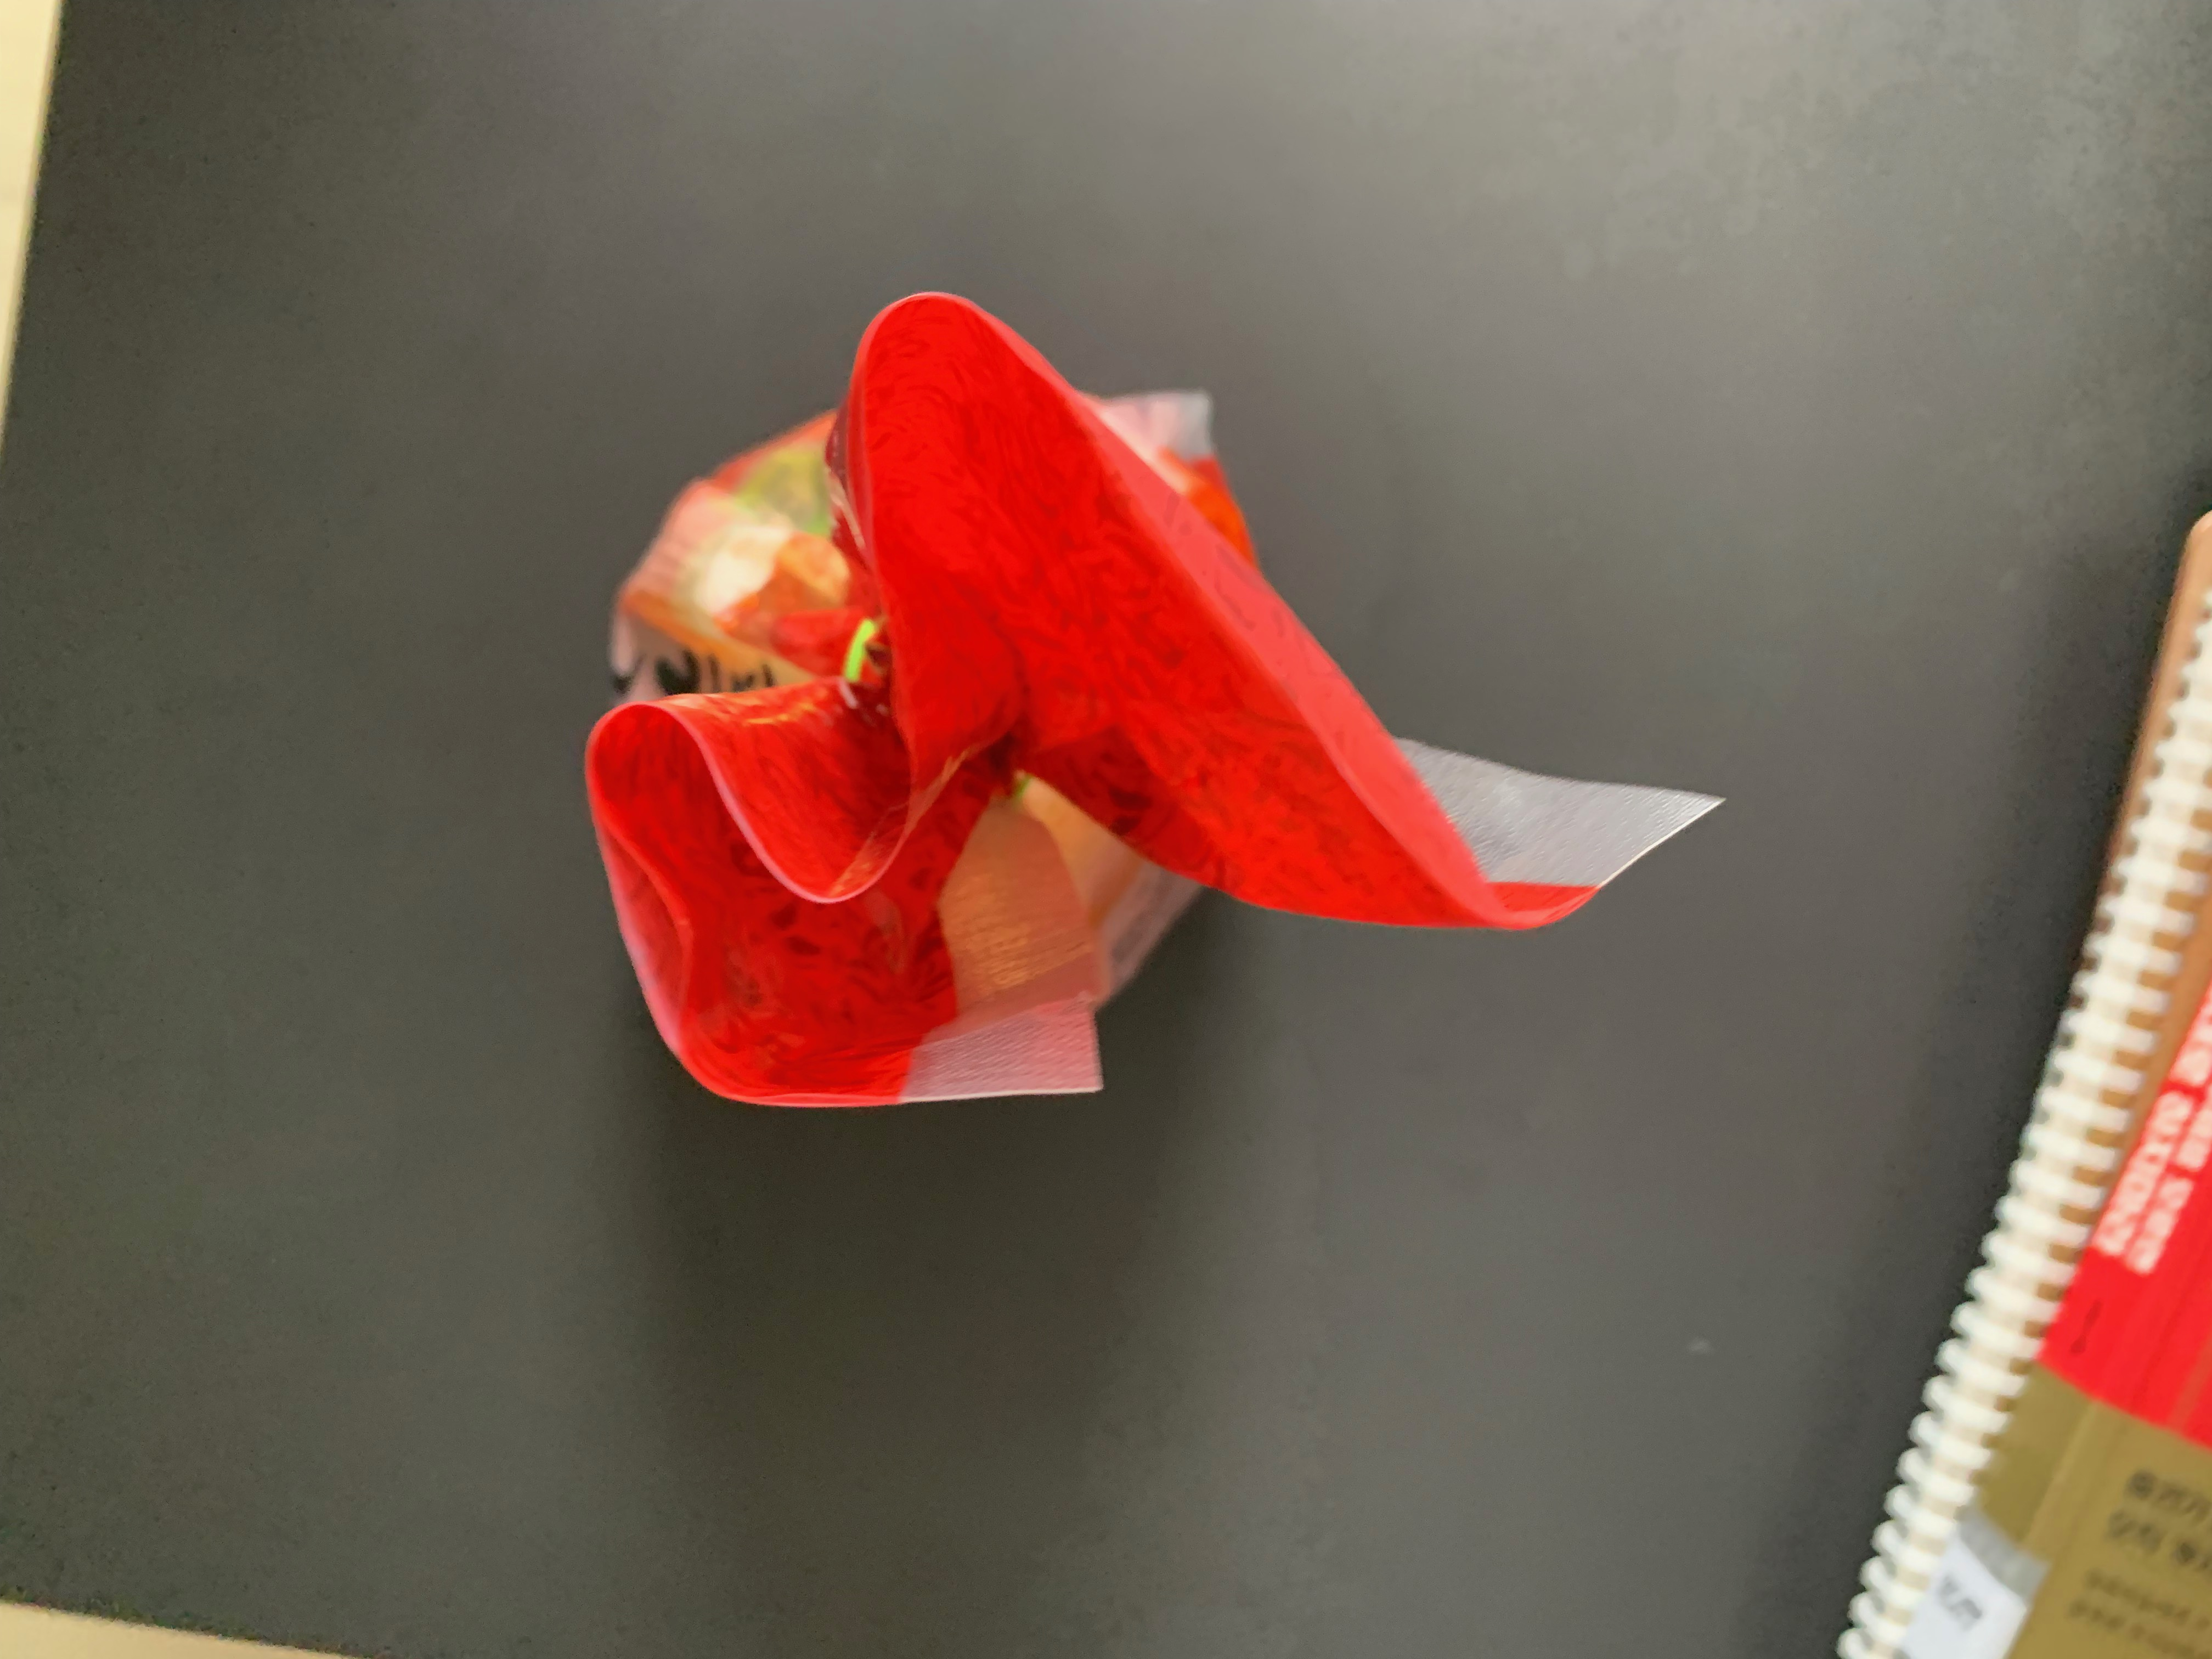kimchi: (582, 291, 1512, 1107)
